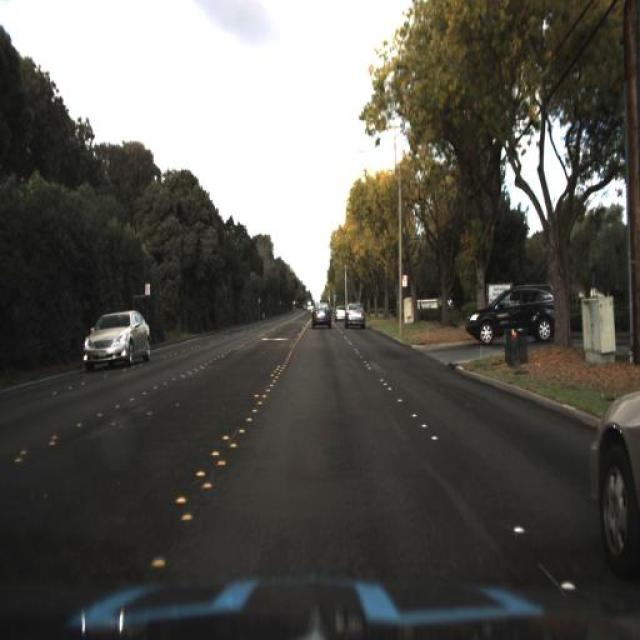car: (575, 368, 639, 563), (584, 377, 640, 588), (460, 272, 556, 343), (81, 307, 154, 369), (341, 290, 373, 332), (304, 293, 338, 331), (333, 300, 348, 326)
